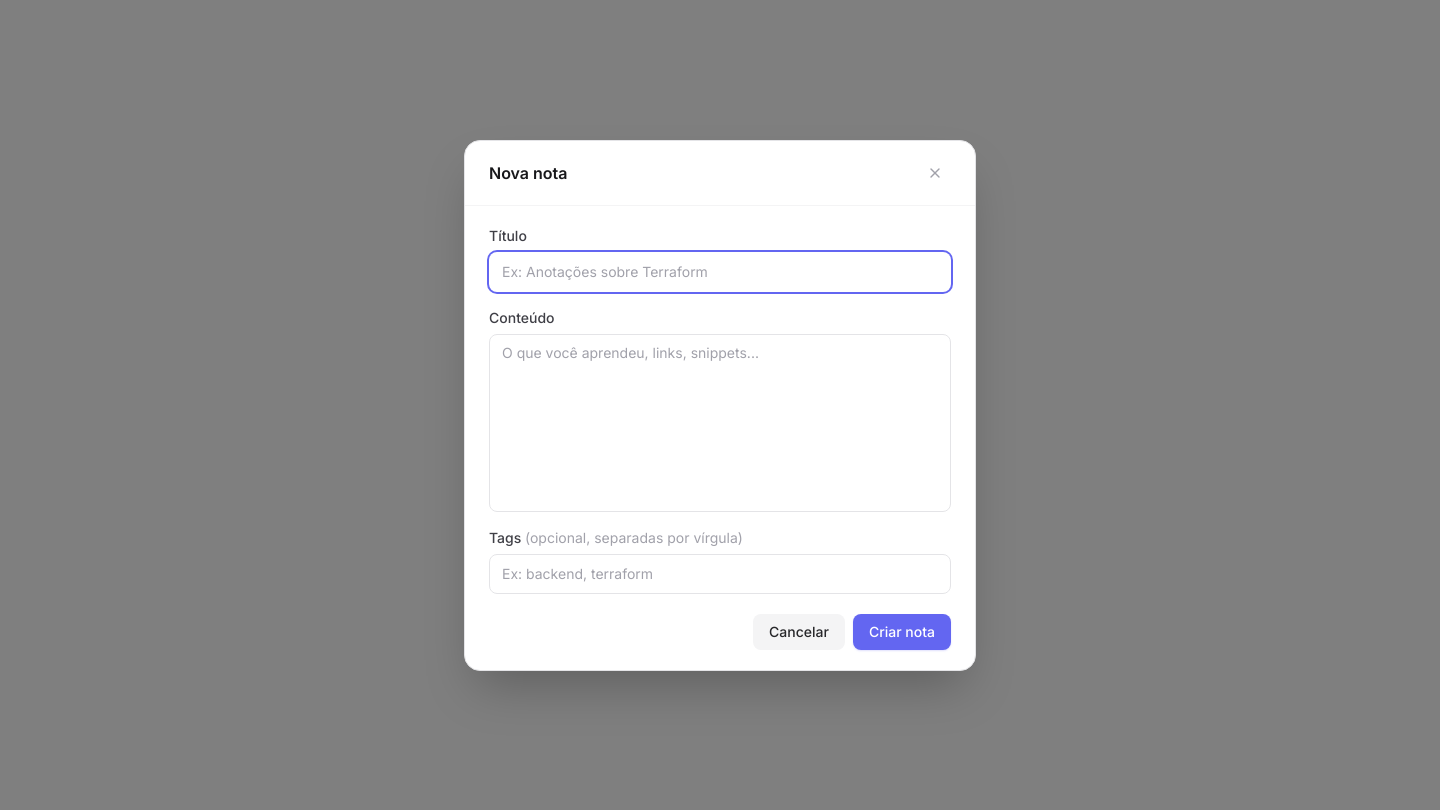
it: StudyNoteFormModal › não submete quando título e conteúdo estão vazios e mostra os erros de validação
Click the button "Criar nota".
click(902, 632)  # box [853,614,951,650]
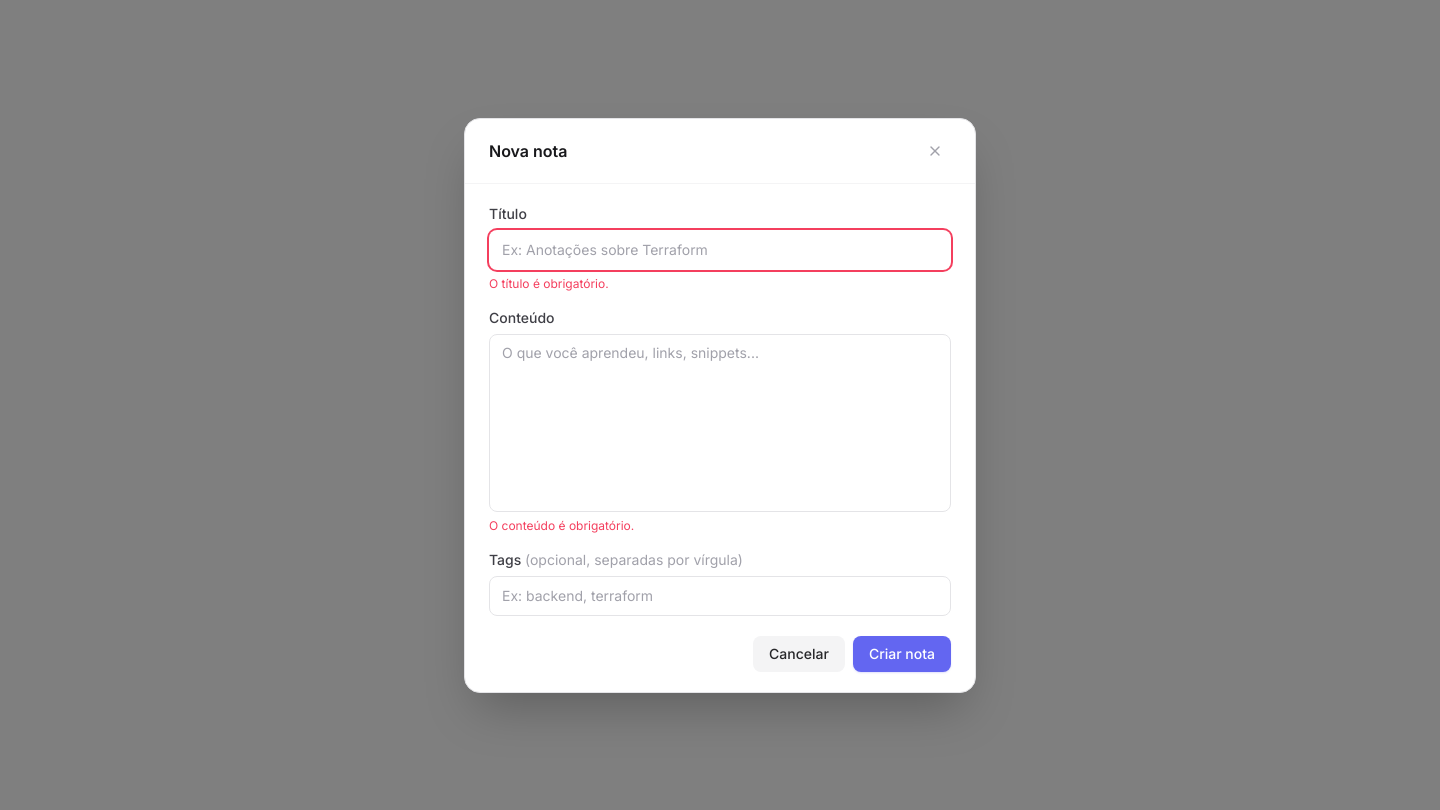
Now the text "O título é obrigatório." is shown, box [489,276,609,290]
Now the text "O conteúdo é obrigatório." is shown, box [489,518,634,532]
